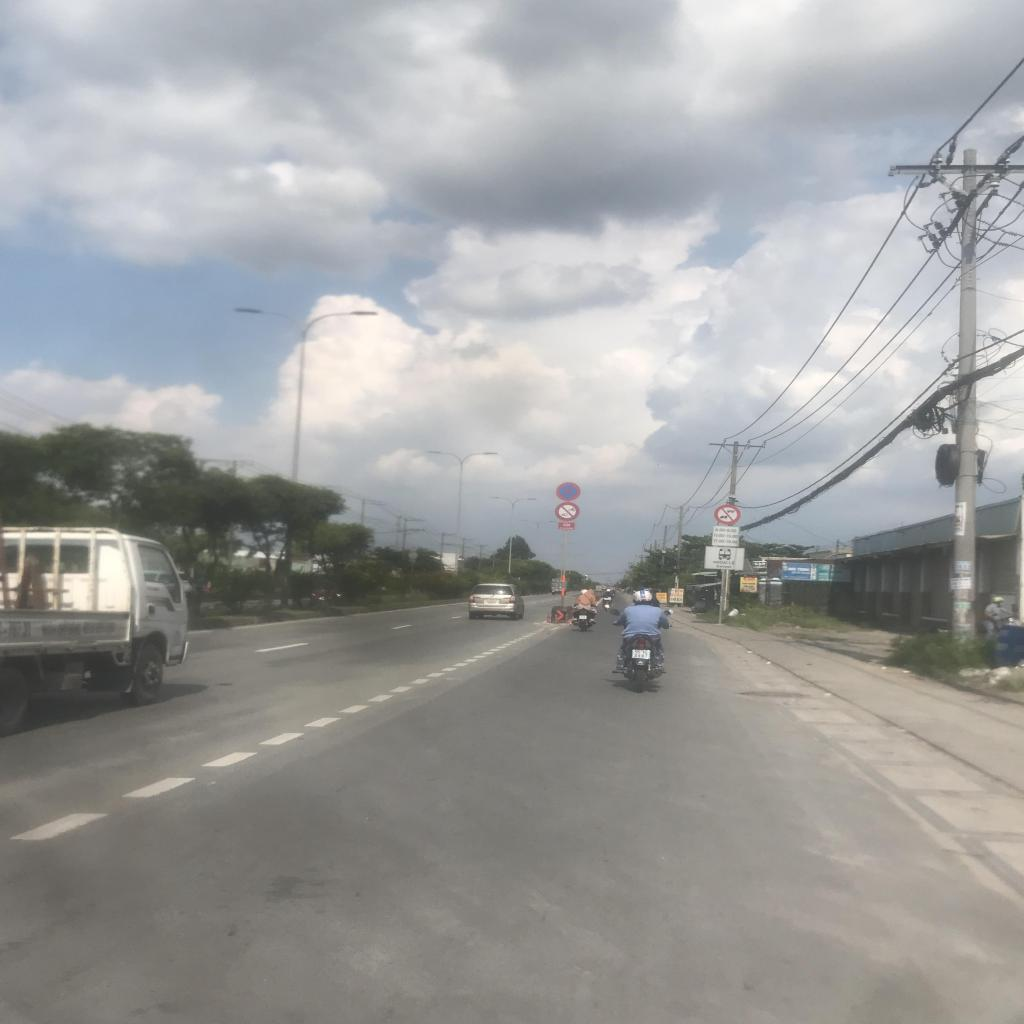cam_dung_xe_va_do_xe: (556, 482, 581, 501)
cam_o_to_tai_va_xe_khach: (715, 504, 740, 524)
cam_xe_2_banh_va_xe_3_banh_co_dong_co: (555, 502, 579, 521)
khac: (704, 546, 744, 570), (712, 526, 739, 547)
